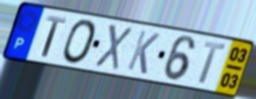6: (161, 35, 197, 84)
K: (125, 28, 162, 77)
O: (62, 18, 99, 66)
T: (197, 41, 228, 86), (40, 14, 68, 59)
X: (93, 22, 134, 73)
